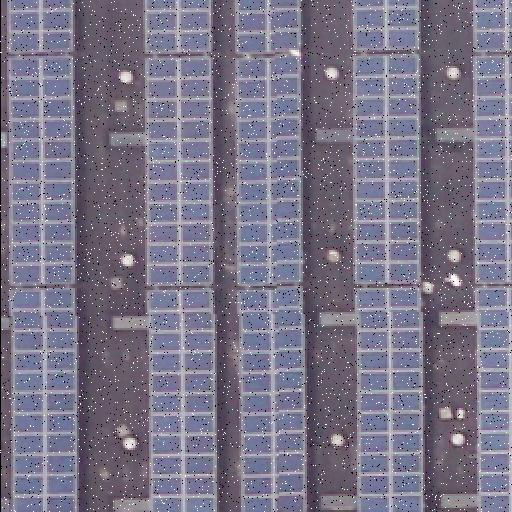solar-panel: (352, 53, 420, 283), (239, 54, 305, 286), (11, 57, 77, 287), (147, 288, 213, 512), (239, 288, 305, 512), (355, 288, 421, 512), (148, 56, 212, 284), (12, 289, 76, 511), (473, 56, 511, 284), (473, 288, 511, 512), (10, 0, 74, 52), (146, 0, 210, 52), (236, 0, 300, 52), (352, 0, 416, 48), (473, 0, 511, 52)
